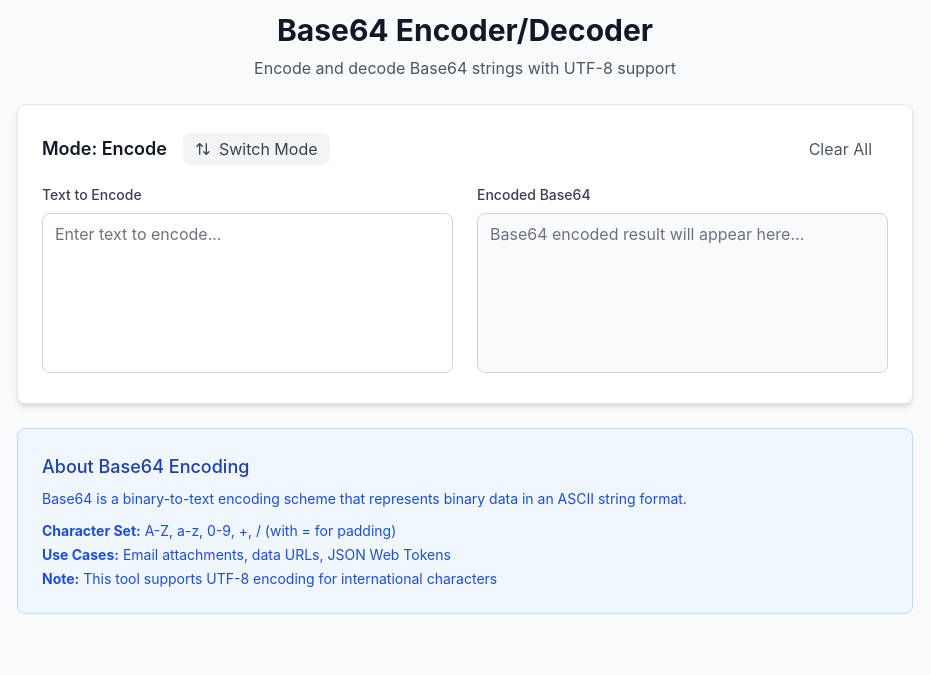
Scenario: Base64Tool › copies output to clipboard
Type "Hello World!" into the text box with placeholder "Enter text to encode...". click: [248, 293]
box: [42,213,453,373]
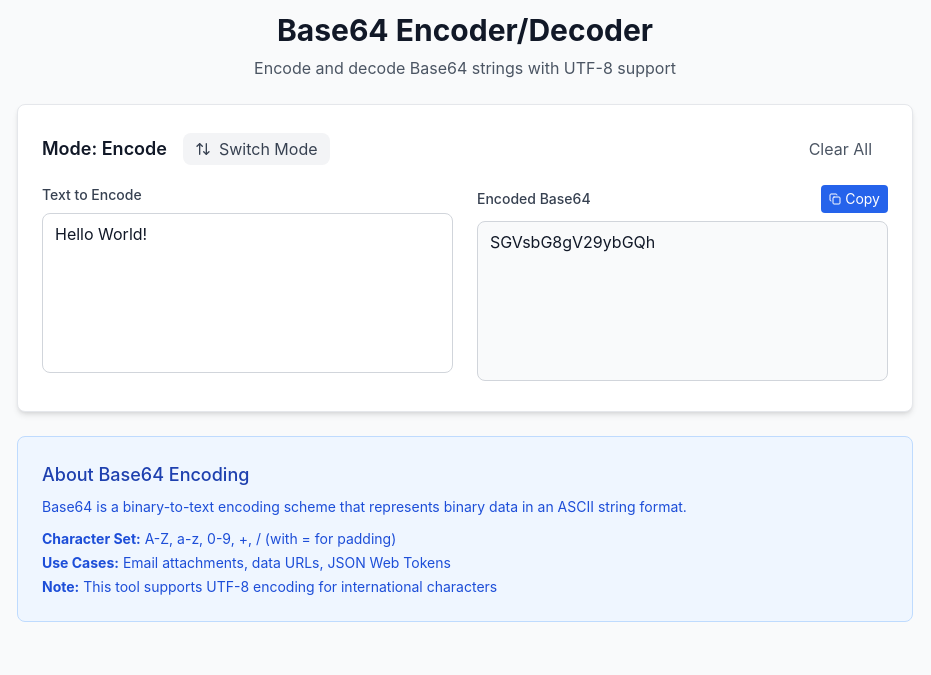
Expected: the text "Copy" is shown, [845,189,880,209]
Click the button "Copy". click: [855, 199]
box: [821,185,888,213]
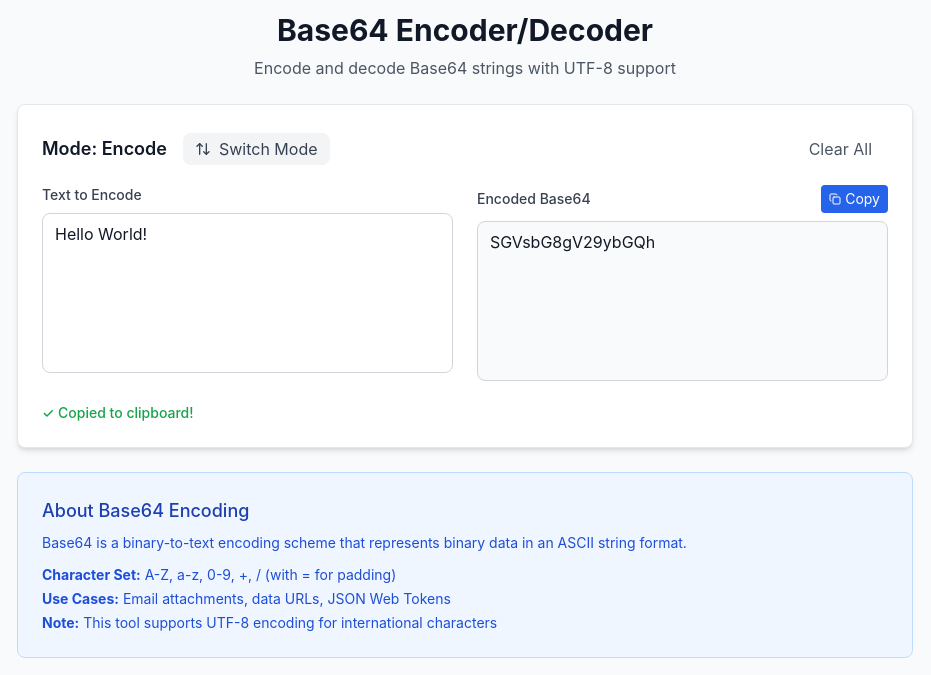
Expected: the text "✓ Copied to clipboard!" is shown, [42,404,194,421]
